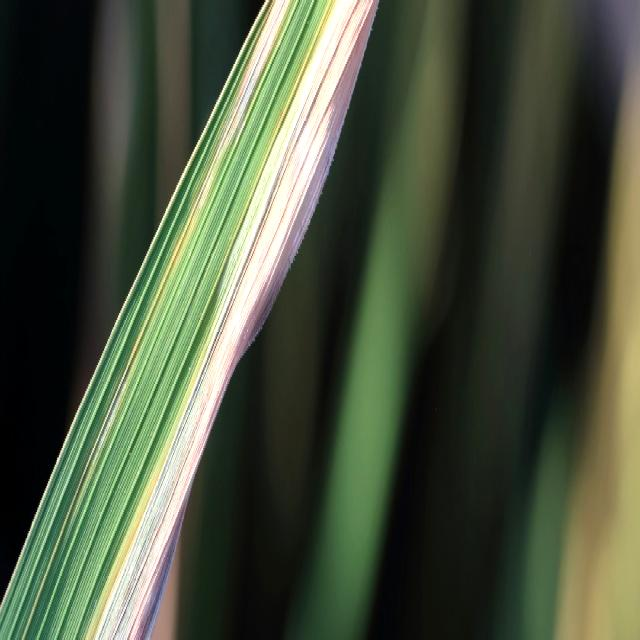BLB: (85, 0, 379, 640), (190, 0, 292, 222)
